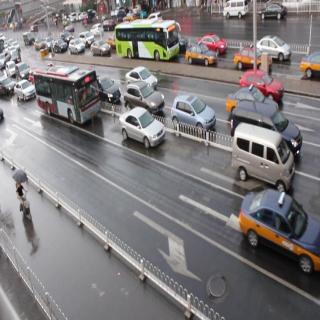BigCar: (29, 71, 100, 125), (114, 18, 184, 64)
Car: (236, 183, 320, 276), (232, 120, 304, 186), (229, 97, 311, 146), (162, 88, 218, 145), (118, 106, 176, 151)
